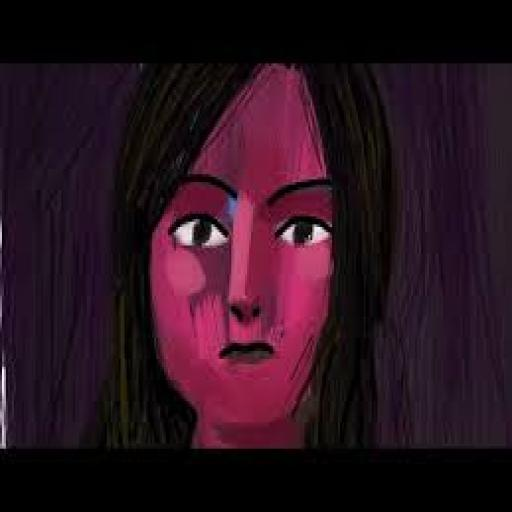person: (85, 52, 433, 451)
